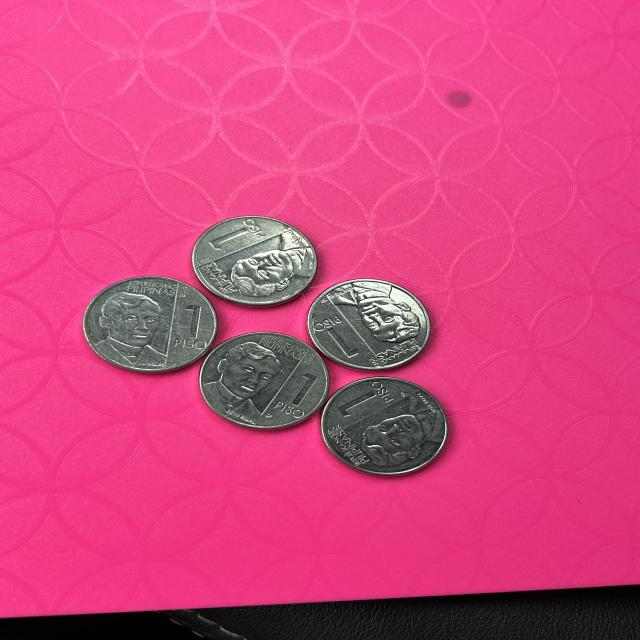1_New_Front: (276, 366, 320, 419), (313, 312, 355, 364), (337, 380, 394, 417), (204, 220, 264, 250), (173, 300, 207, 352)
